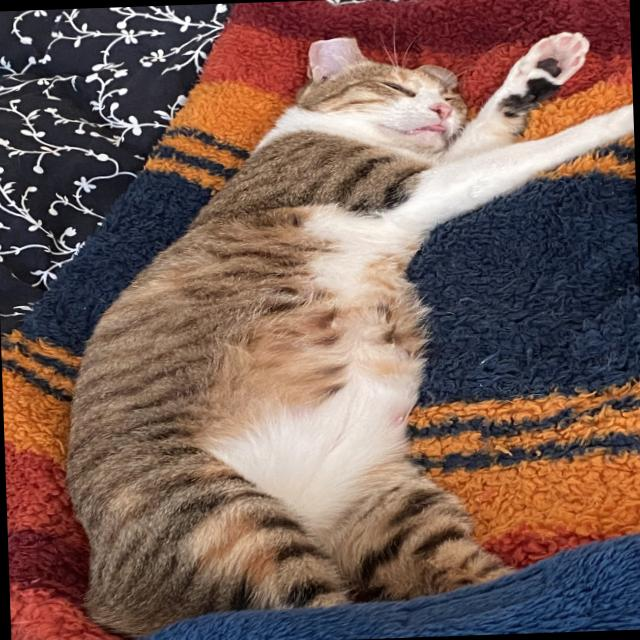cat2: (58, 25, 640, 629)
